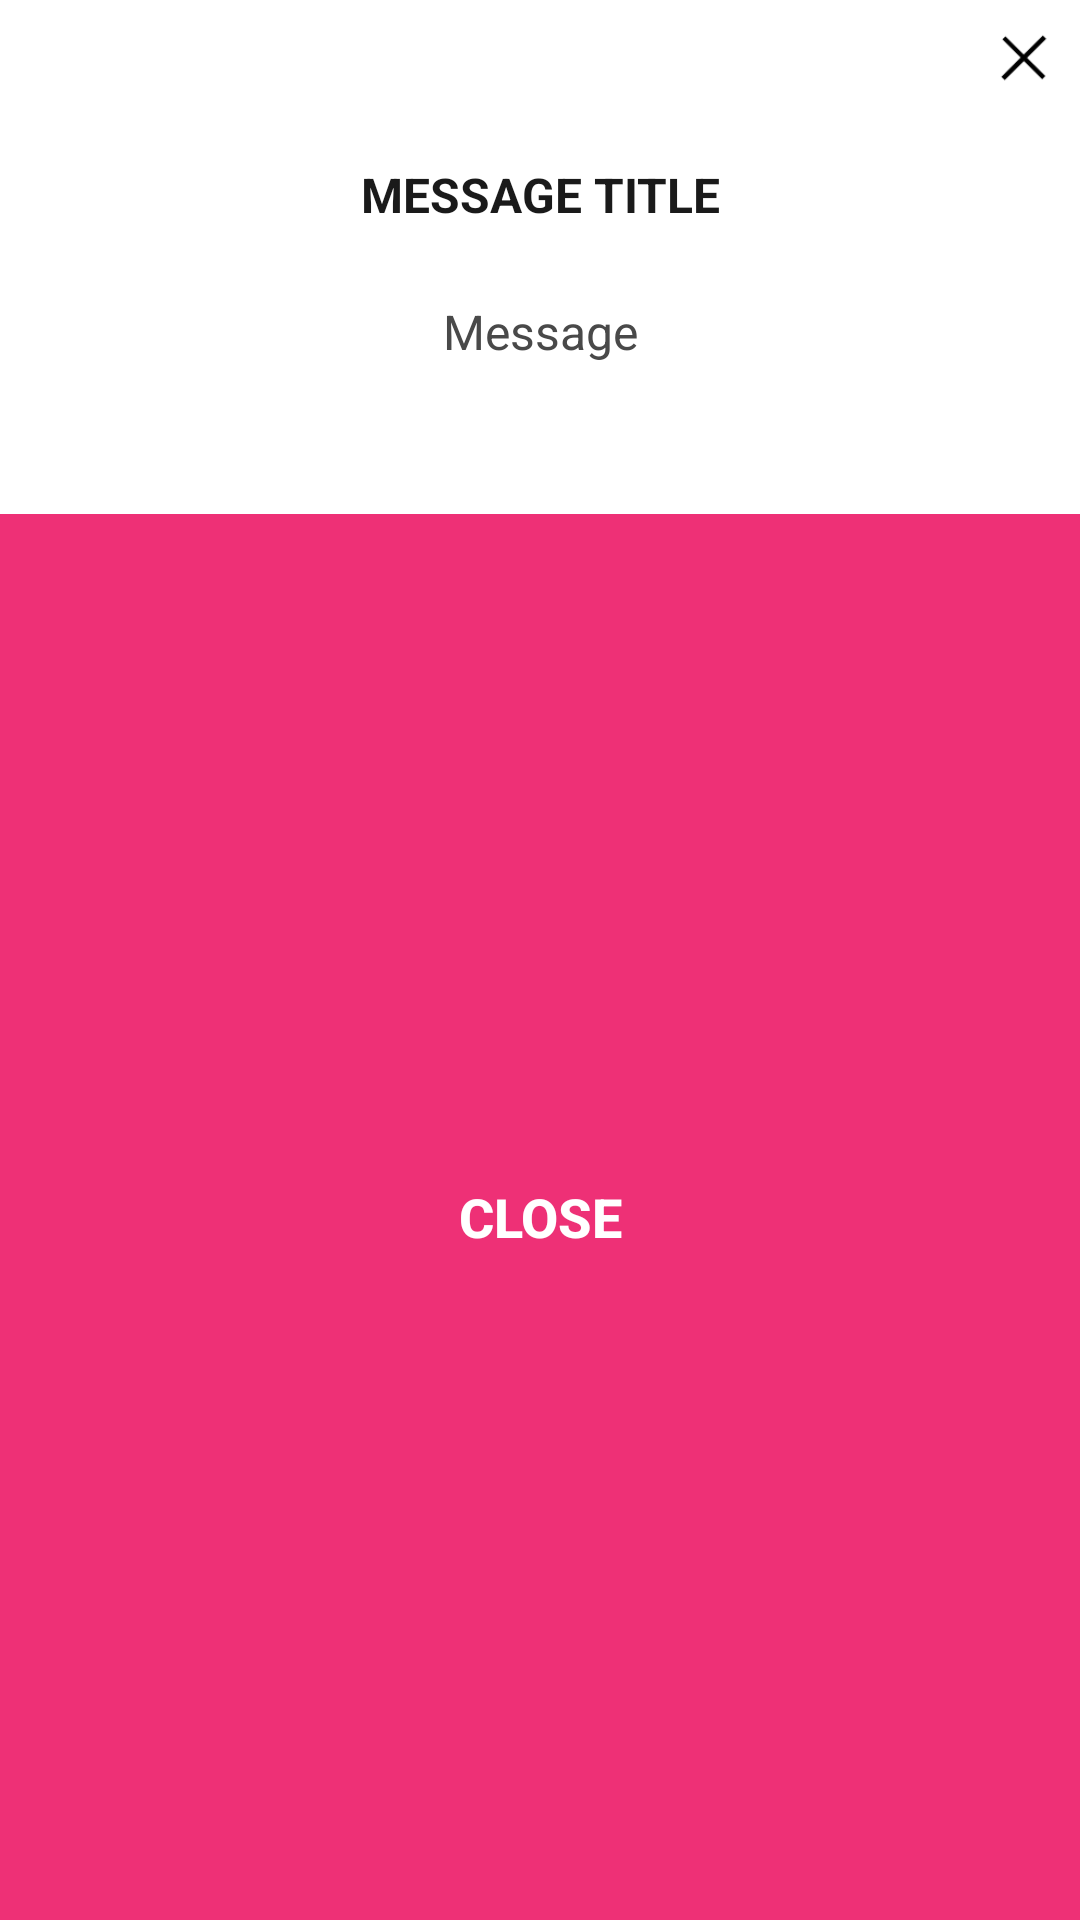

Named icons in this screenshot (1080×1920) and their centers, (x,y):
close: (1024,58)
